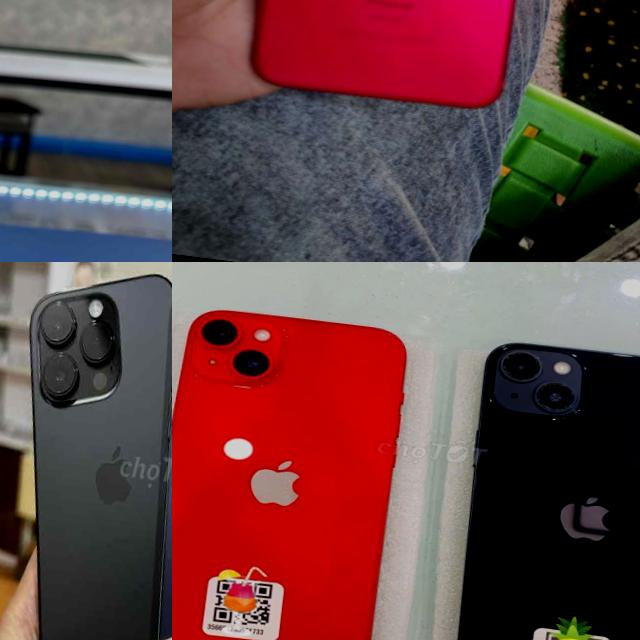gen_14: (172, 292, 423, 640), (130, 262, 172, 640)
gen_7_8: (242, 0, 562, 127)
scratch: (464, 62, 509, 112)
